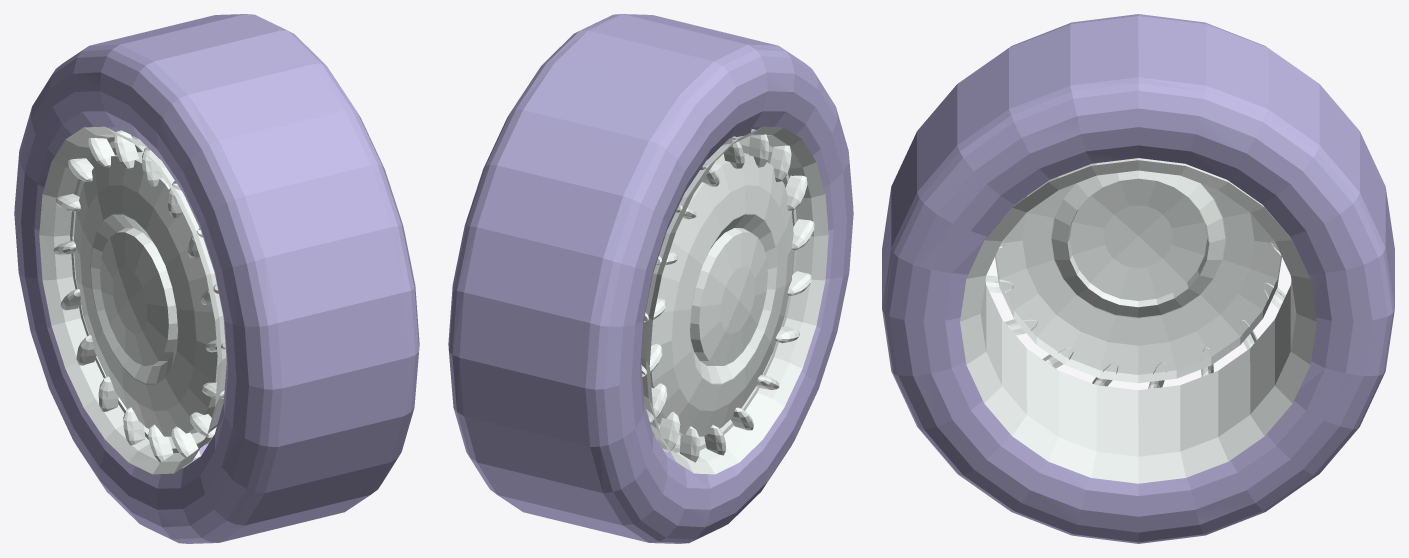
The model's file is RightWheel.dae.
3 renders of one model, left to right at view 1: azimuth 30°, elevation 25°; view 2: azimuth 150°, elevation 25°; view 3: azimuth 270°, elevation 25°, orthographic.
Visible parts, largest first — view 1: Group03_Layer_SM13_Layer_SM13_Geometry_0_sub58; view 2: Group03_Layer_SM13_Layer_SM13_Geometry_0_sub58; view 3: Group03_Layer_SM13_Layer_SM13_Geometry_0_sub58.
Boxes of the visible parts, <box> form: Group03_Layer_SM13_Layer_SM13_Geometry_0_sub58: <box>14,14,419,543</box>; Group03_Layer_SM13_Layer_SM13_Geometry_0_sub58: <box>448,14,853,543</box>; Group03_Layer_SM13_Layer_SM13_Geometry_0_sub58: <box>882,14,1394,543</box>.
Size of the model in its own units: 0.2 by 0.5045 by 0.5045.
